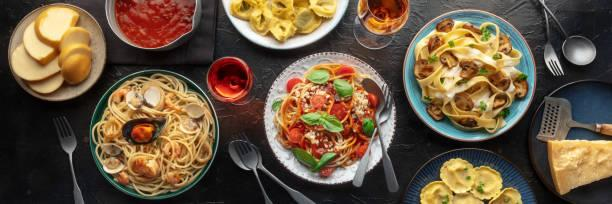Braised Crucian Carp: (86, 67, 225, 203), (401, 11, 538, 146), (262, 51, 394, 188)
